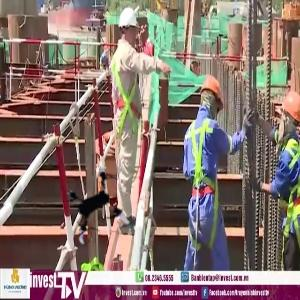drone: (59, 169, 142, 252)
